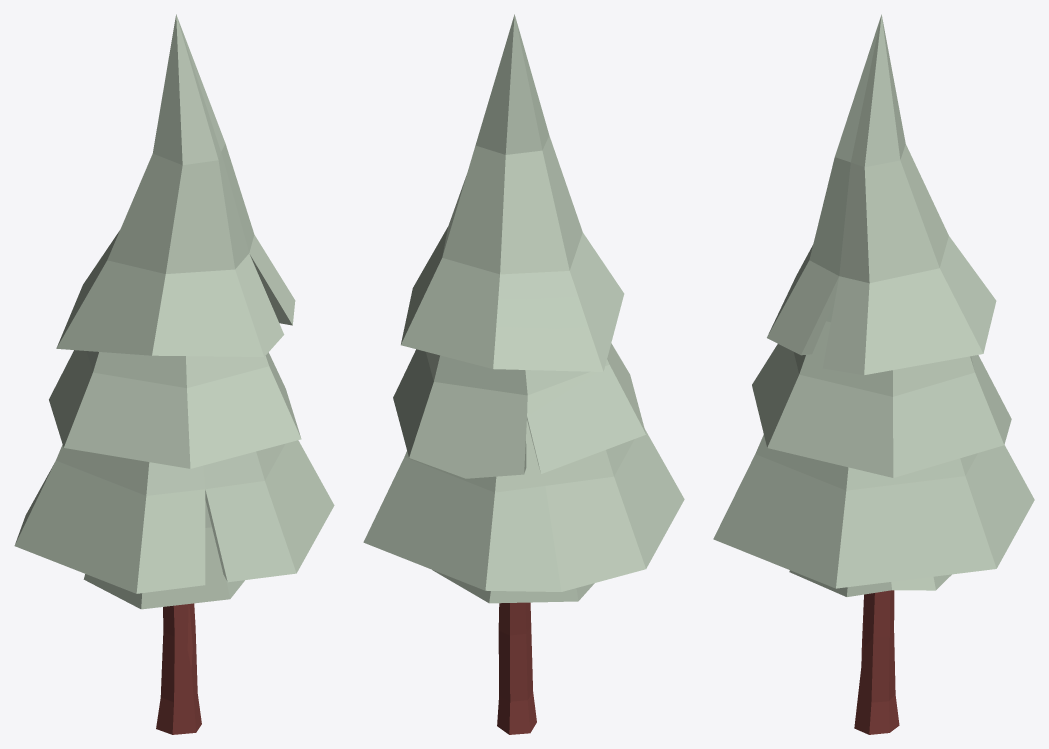
File: Spruce_S_flat.glb
3 views of the same model, side by side, from view 1: azimuth 30°, elevation 25°; view 2: azimuth 150°, elevation 25°; view 3: azimuth 270°, elevation 25° (orthographic).
Parts seen in each view (by area): view 1: Spruce small f; view 2: Spruce small f; view 3: Spruce small f.
Boxes of the visible parts, left/top/right/bottom form: Spruce small f: left=14, top=14, right=334, bottom=734; Spruce small f: left=363, top=14, right=684, bottom=734; Spruce small f: left=713, top=14, right=1034, bottom=734.
Bounding box in the file's own units: 4.36 × 10.52 × 4.3.
